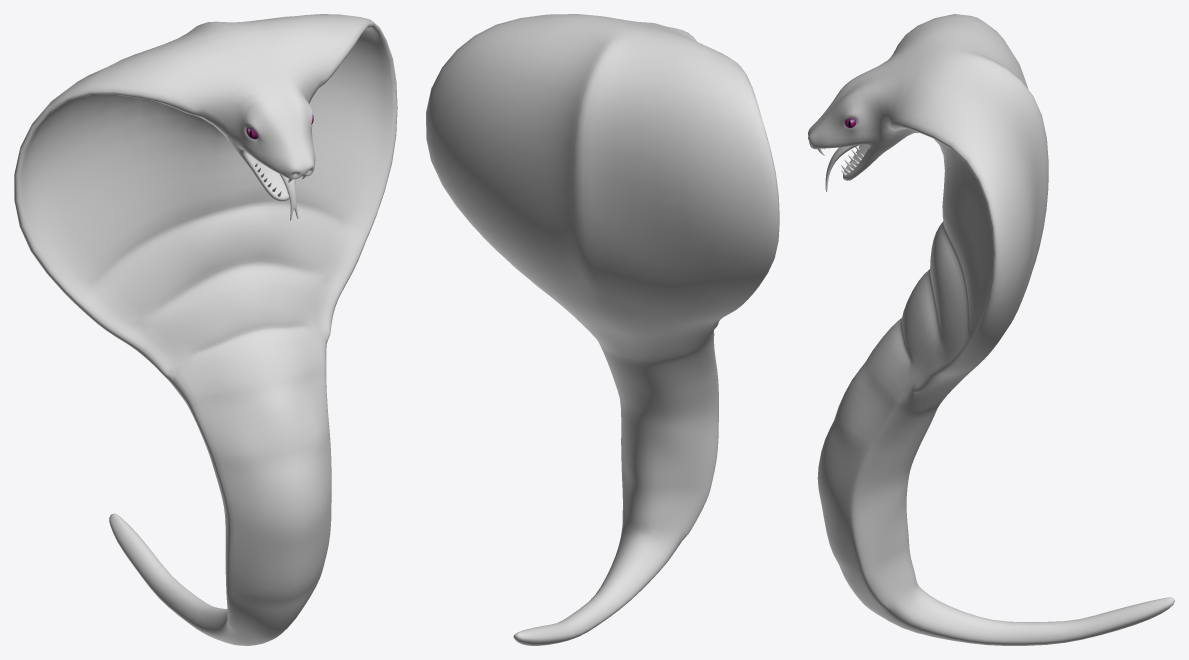
The model's file is TCobra.fbx.
3 renders of one model, left to right at view 1: azimuth 30°, elevation 25°; view 2: azimuth 150°, elevation 25°; view 3: azimuth 270°, elevation 25°, orthographic. The views are drawn at different scales.
Parts seen in each view (by area): view 1: Cobra_LowPoly.001; view 2: Cobra_LowPoly.001; view 3: Cobra_LowPoly.001.
Part boxes in pixels (<box>): Cobra_LowPoly.001: <box>14,14,397,645</box>; Cobra_LowPoly.001: <box>426,14,779,645</box>; Cobra_LowPoly.001: <box>808,14,1174,645</box>.
Bounding box in the file's own units: 95.05 × 82.69 × 147.
